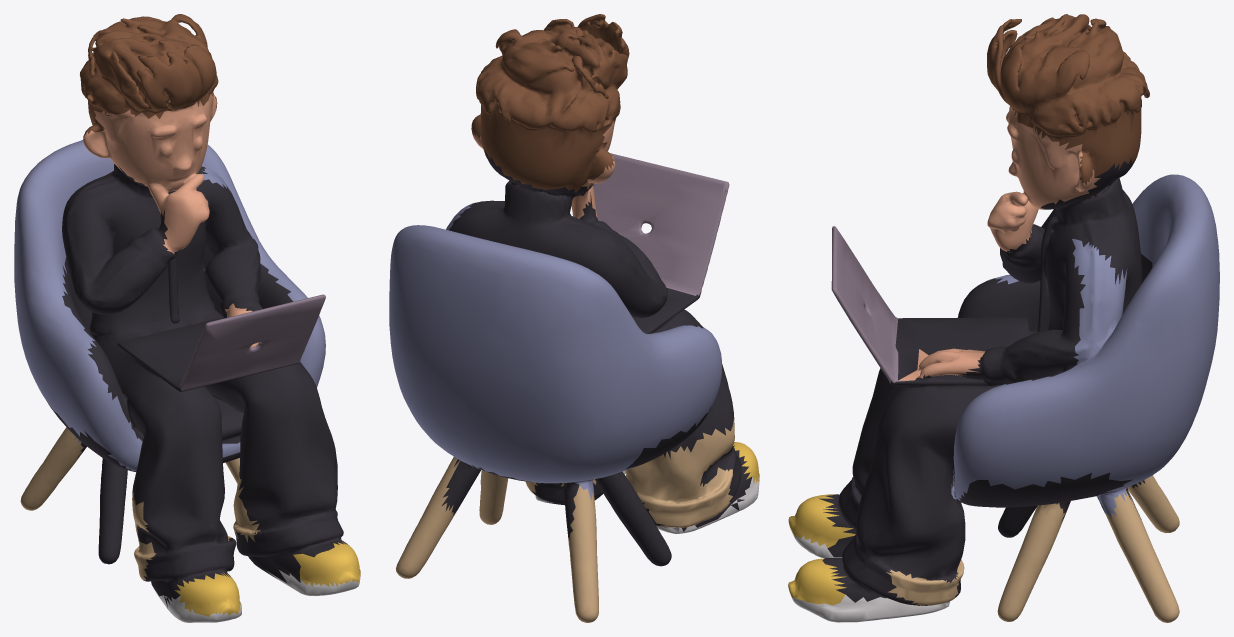
File: personaje.glb
3 renders of one model, left to right at view 1: azimuth 30°, elevation 25°; view 2: azimuth 150°, elevation 25°; view 3: azimuth 270°, elevation 25°, orthographic. The views are drawn at different scales.
Parts seen in each view (by area): view 1: geometry_0; view 2: geometry_0; view 3: geometry_0.
Part boxes in pixels (x1,y1,x2,y2): geometry_0: (14, 14, 360, 622); geometry_0: (389, 14, 759, 622); geometry_0: (788, 14, 1219, 622).
Bounding box in the file's own units: 0.9356 × 1.8 × 1.29.
